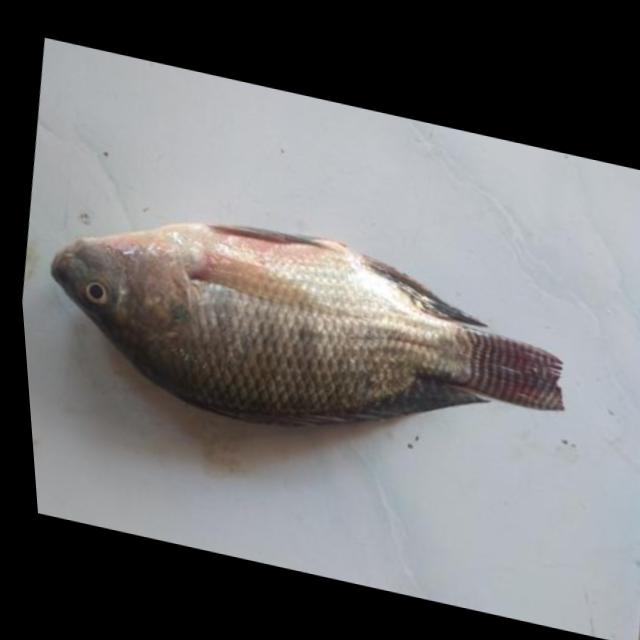Tilapia: (27, 175, 591, 492)
